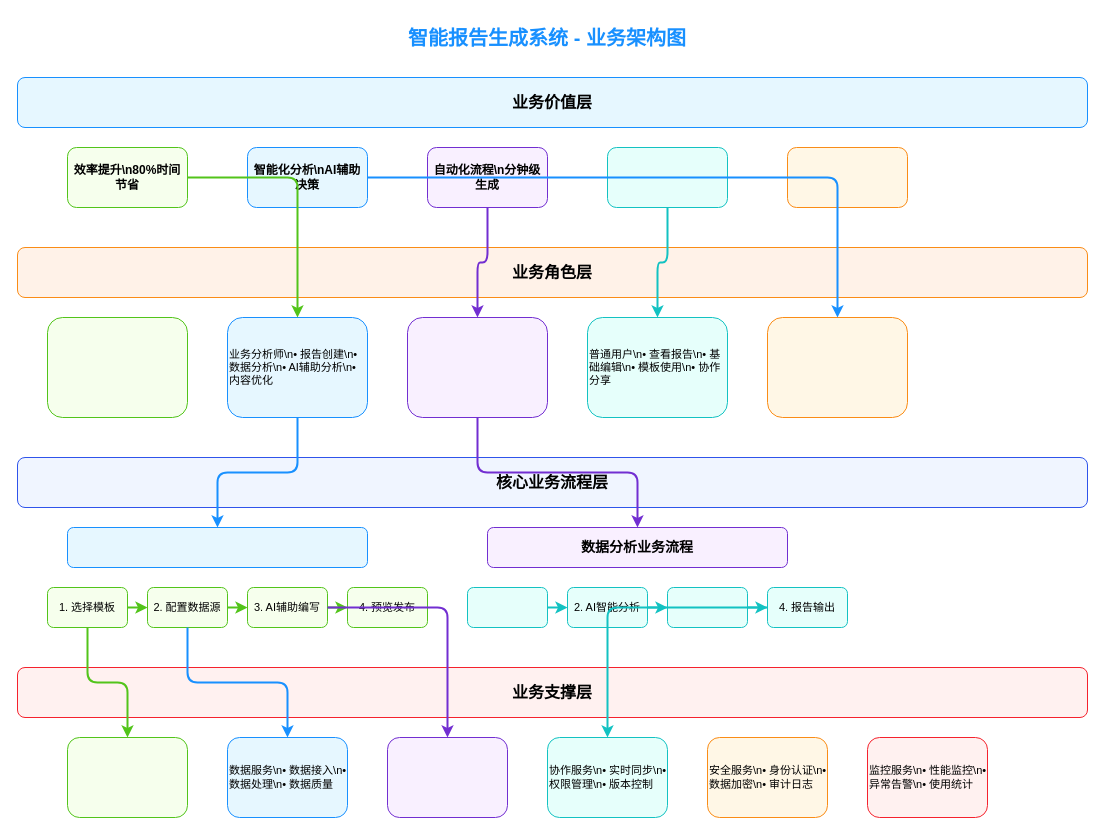
This 1105x835 diagram has some shape labels left out. Here are the shapes that lost their labels. From the top down, the centre of each, then its label:
At point 667,177: "协作共享\n实时同步".
At point 847,177: "成本降低\n人力资源优化".
At point 117,367: "系统管理员\n• 用户管理\n• 权限配置\n• 系统监控".
At point 477,367: "数据运维员\n• 数据源配置\n• 数据接入\n• 数据质量监控\n• 系统维护".
At point 837,367: "管理决策层\n• 查看所有报告\n• 决策分析\n• 数据洞察\n• 战略规划".
At point 217,547: "报告创建业务流程".
At point 507,607: "1. 数据接入".
At point 707,607: "3. 洞察生成".
At point 127,777: "模板服务\n• 模板库管理\n• 自定义模板\n• 版本控制".
At point 447,777: "AI服务\n• 内容生成\n• 智能分析\n• 异常检测".
